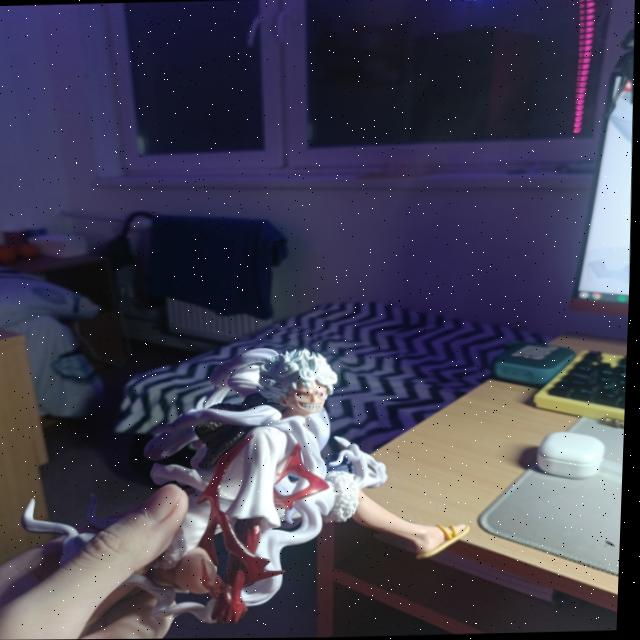luffy: (0, 320, 546, 640)
